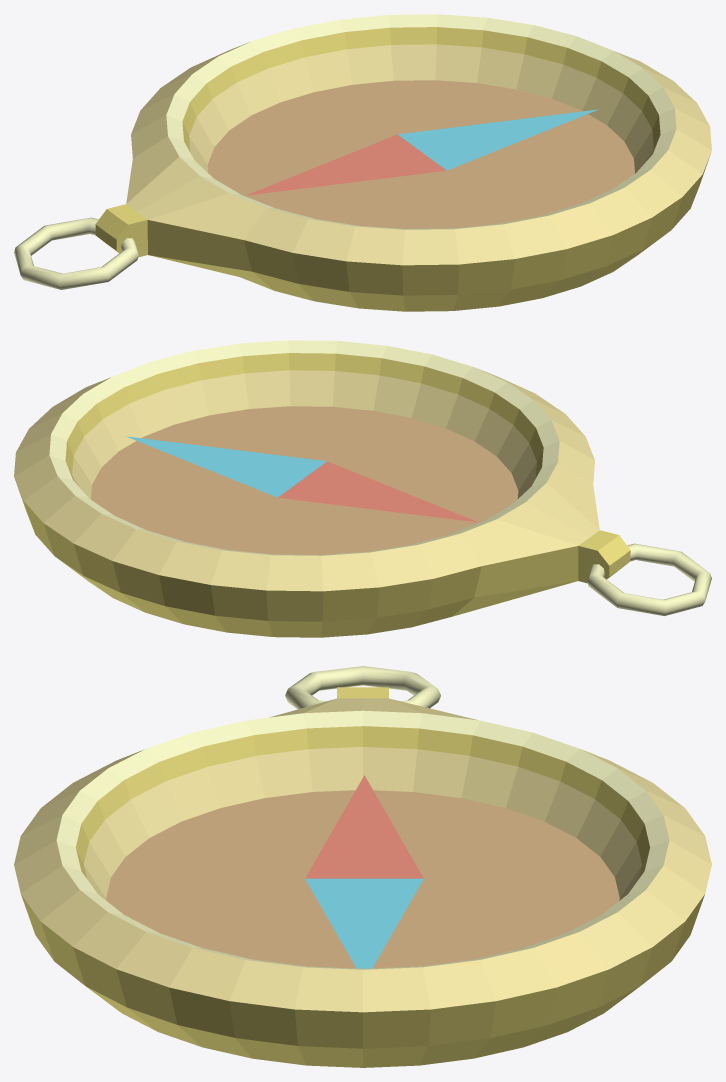
The model's file is Compass 1.fbx.
The picture shows the model from 3 angles, top to bottom: view 1: azimuth 30°, elevation 25°; view 2: azimuth 150°, elevation 25°; view 3: azimuth 270°, elevation 25°; orthographic projection. The views are drawn at different scales.
Visible parts, largest first — view 1: Compass, Needle, Ring; view 2: Compass, Needle, Ring; view 3: Compass, Needle, Ring.
Boxes of the visible parts, x1=… form: Compass: x1=95, y1=14, x2=711, y2=311; Needle: x1=246, y1=109, x2=598, y2=195; Ring: x1=14, y1=217, x2=138, y2=289; Compass: x1=14, y1=340, x2=630, y2=637; Needle: x1=126, y1=436, x2=478, y2=522; Ring: x1=587, y1=543, x2=711, y2=615; Compass: x1=14, y1=687, x2=711, y2=1067; Needle: x1=305, y1=775, x2=423, y2=968; Ring: x1=285, y1=666, x2=440, y2=709.
Size of the model in its own units: 25.9 by 3.33 by 20.
